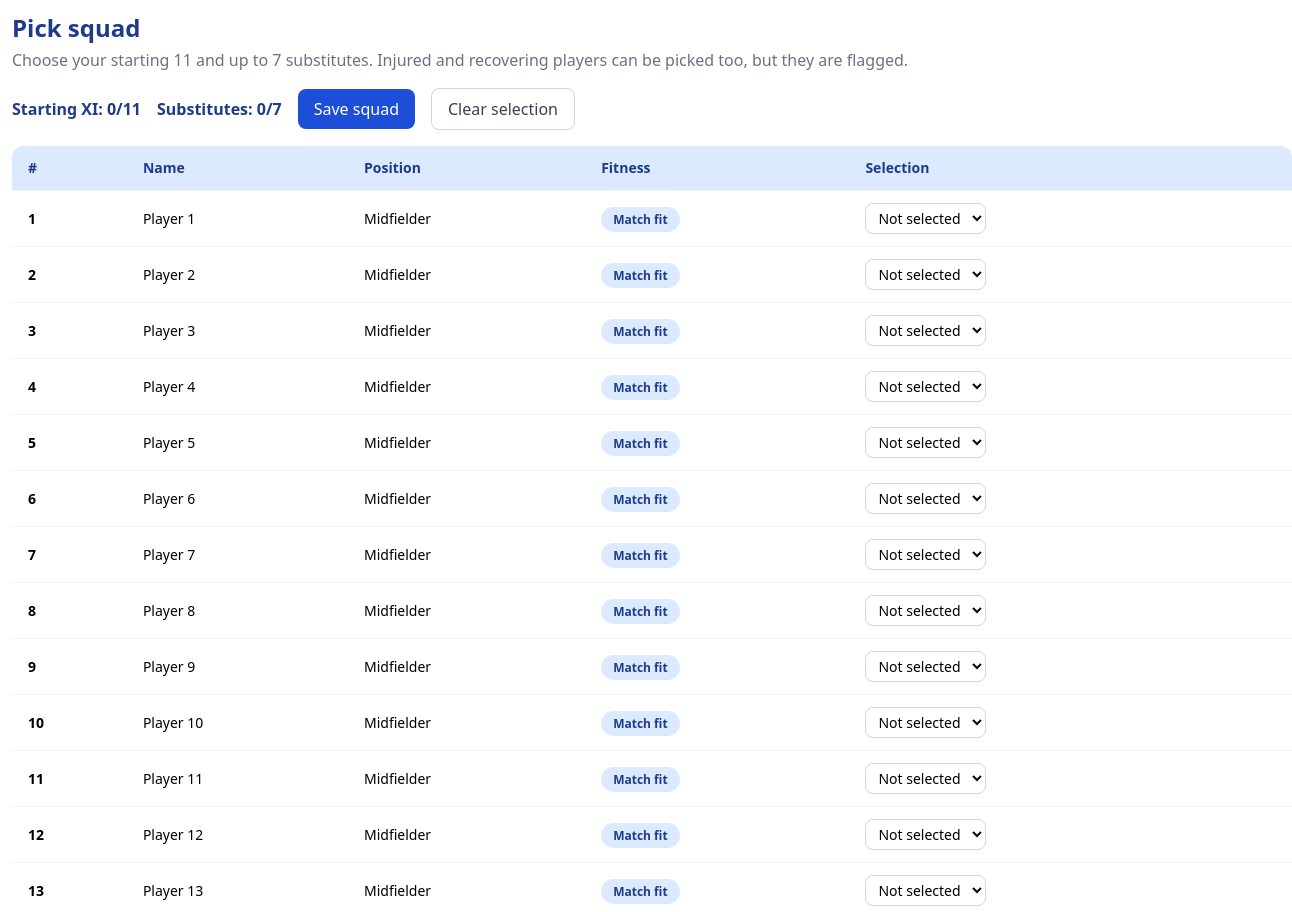
counts starters and substitutes
Expected: the text "Player 1" is shown, top-left (127, 190), bottom-right (348, 246)
Select "Starting XI" in the dropdown named "Selection for Player 1" at [926, 218], box top-left (865, 203), bottom-right (986, 234)
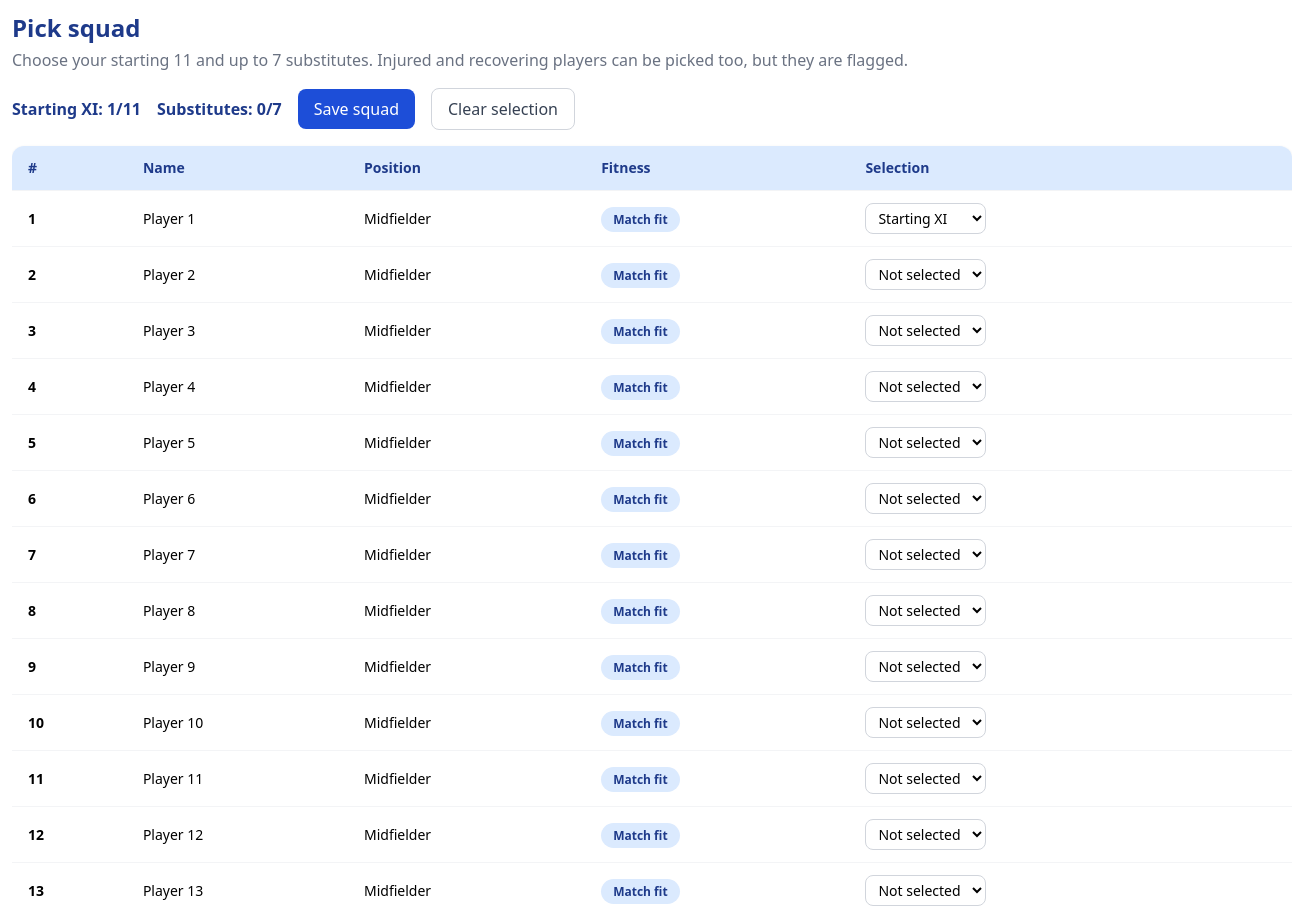
Select "Starting XI" in the dropdown named "Selection for Player 2" at [926, 274], box top-left (865, 259), bottom-right (986, 290)
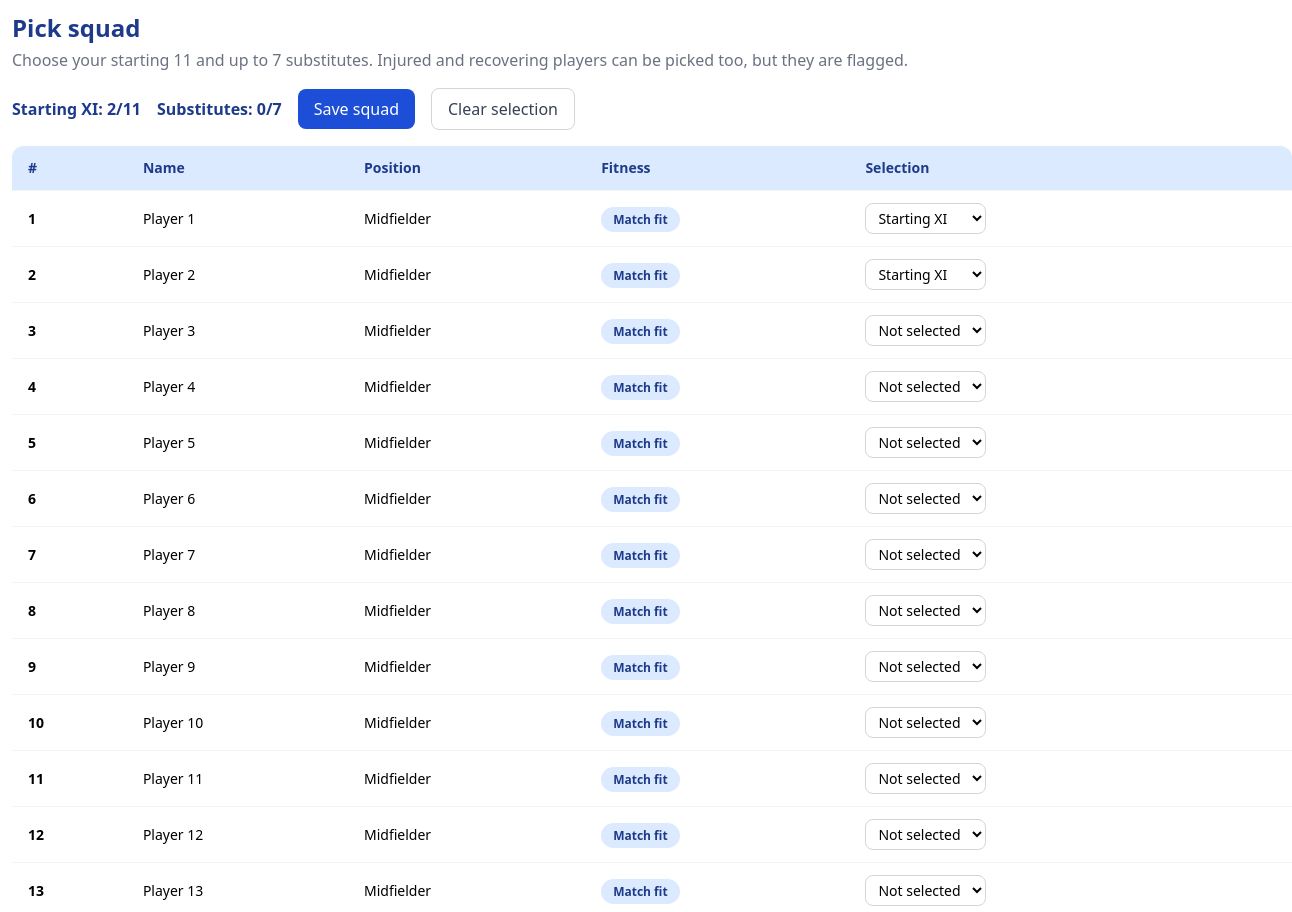
Select "Substitute" in the dropdown named "Selection for Player 3" at [926, 330], box top-left (865, 315), bottom-right (986, 346)
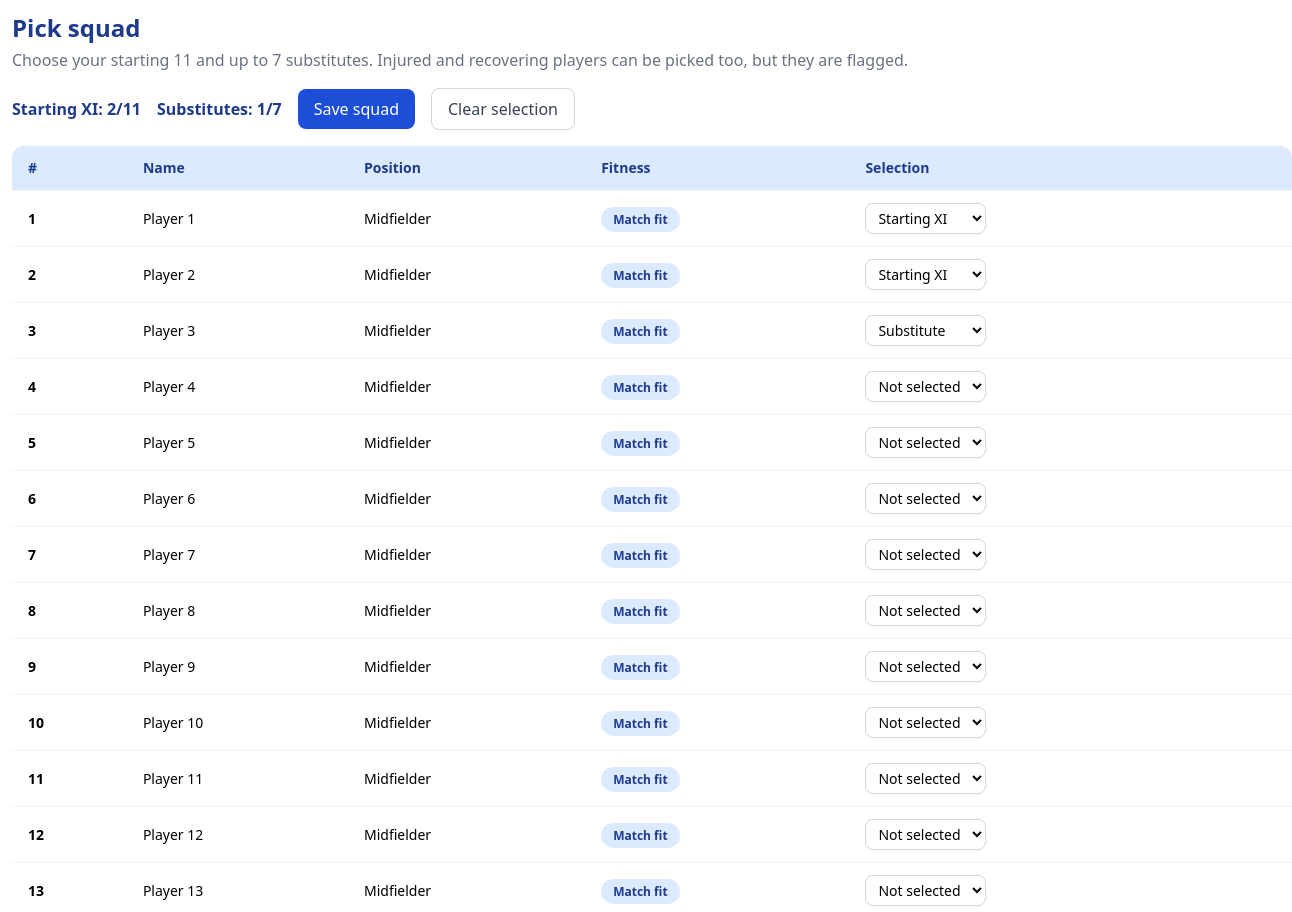
Expected: the text "Starting XI: 2/11" is shown, top-left (12, 97), bottom-right (141, 121)
Expected: the text "Substitutes: 1/7" is shown, top-left (157, 97), bottom-right (282, 121)
Select "Not selected" in the dropdown named "Selection for Player 2" at [926, 274], box top-left (865, 259), bottom-right (986, 290)
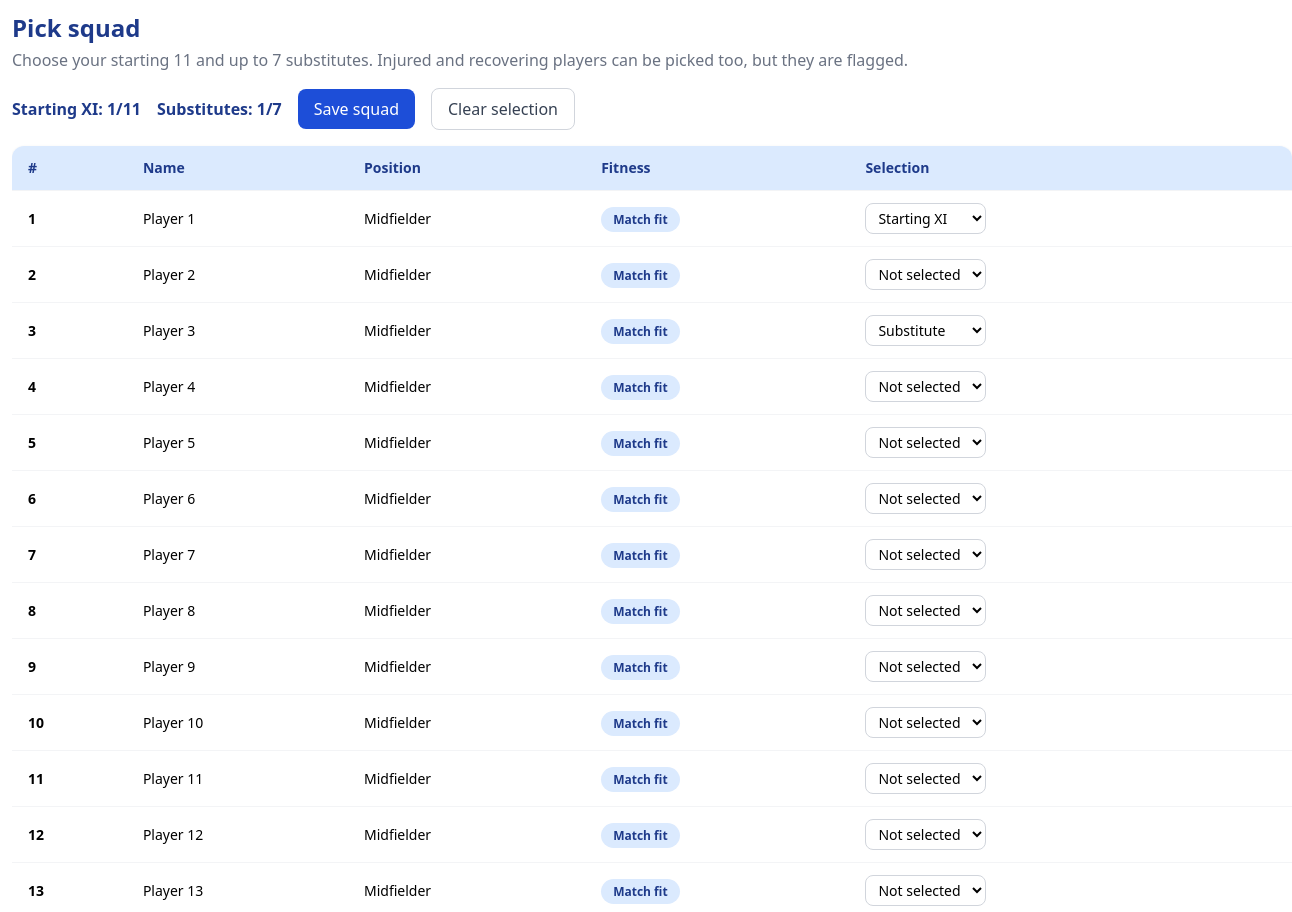
Expected: the text "Starting XI: 1/11" is shown, top-left (12, 97), bottom-right (141, 121)
